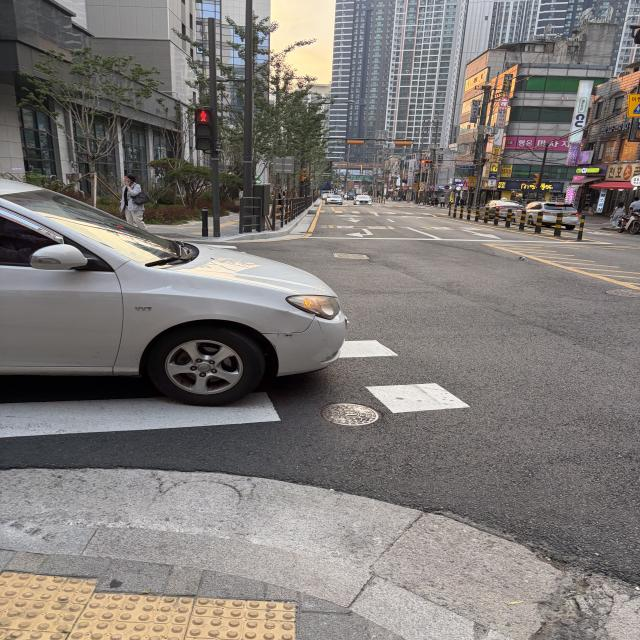car: (0, 166, 373, 412)
